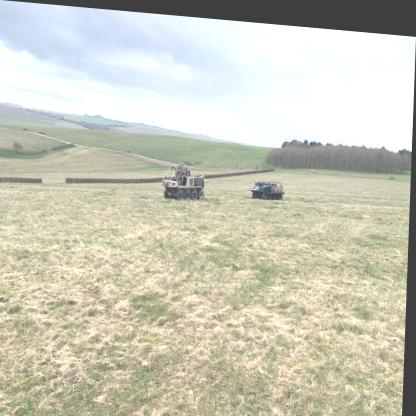UGV: (164, 158, 207, 199), (250, 175, 287, 198)
